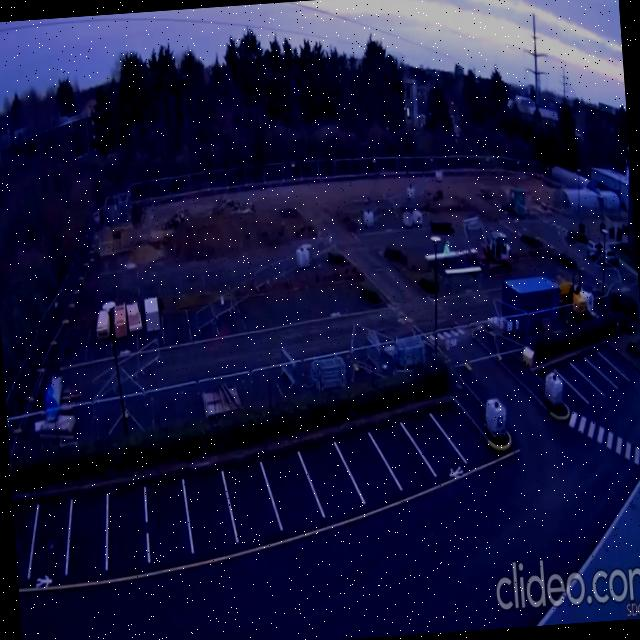empty: (296, 432, 372, 525), (331, 426, 406, 512), (260, 448, 327, 538), (367, 419, 440, 499), (221, 459, 284, 551), (180, 469, 241, 561), (401, 410, 472, 488), (431, 401, 499, 473), (143, 477, 195, 571), (105, 483, 150, 580), (64, 492, 107, 587), (27, 495, 71, 587), (533, 367, 588, 411), (554, 358, 605, 405), (570, 354, 617, 394), (596, 341, 639, 382), (585, 351, 626, 386)
